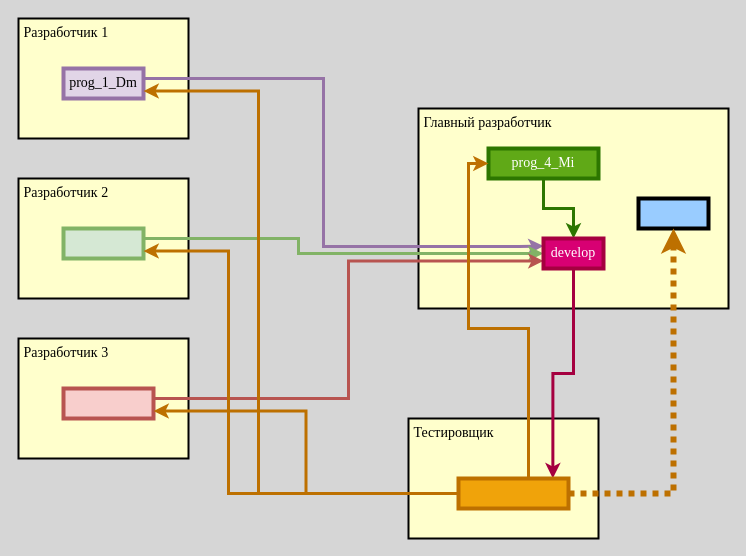
This 746x556 diagram has some shape labels left out. Here are the shapes that lost their labels. From the top down, the centre of each, then its label:
At (x=673, y=213): "master".
At (x=103, y=243): "prog_2_Po".
At (x=108, y=403): "prog_3_Al".
At (x=513, y=493): "test".
